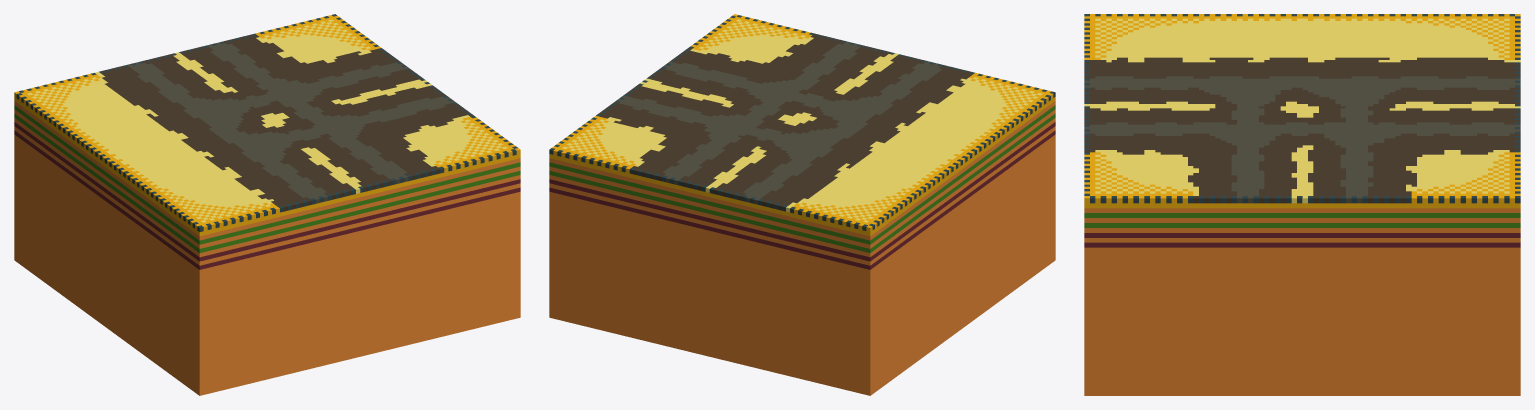
The model's file is sand_dirt_road_3_tile.obj.
The picture shows the model from 3 angles, left to right: view 1: azimuth 30°, elevation 25°; view 2: azimuth 150°, elevation 25°; view 3: azimuth 270°, elevation 25°; orthographic projection. The views are drawn at different scales.
Size of the model in its own units: 8 by 4 by 8.
1 material, 1 textured.
